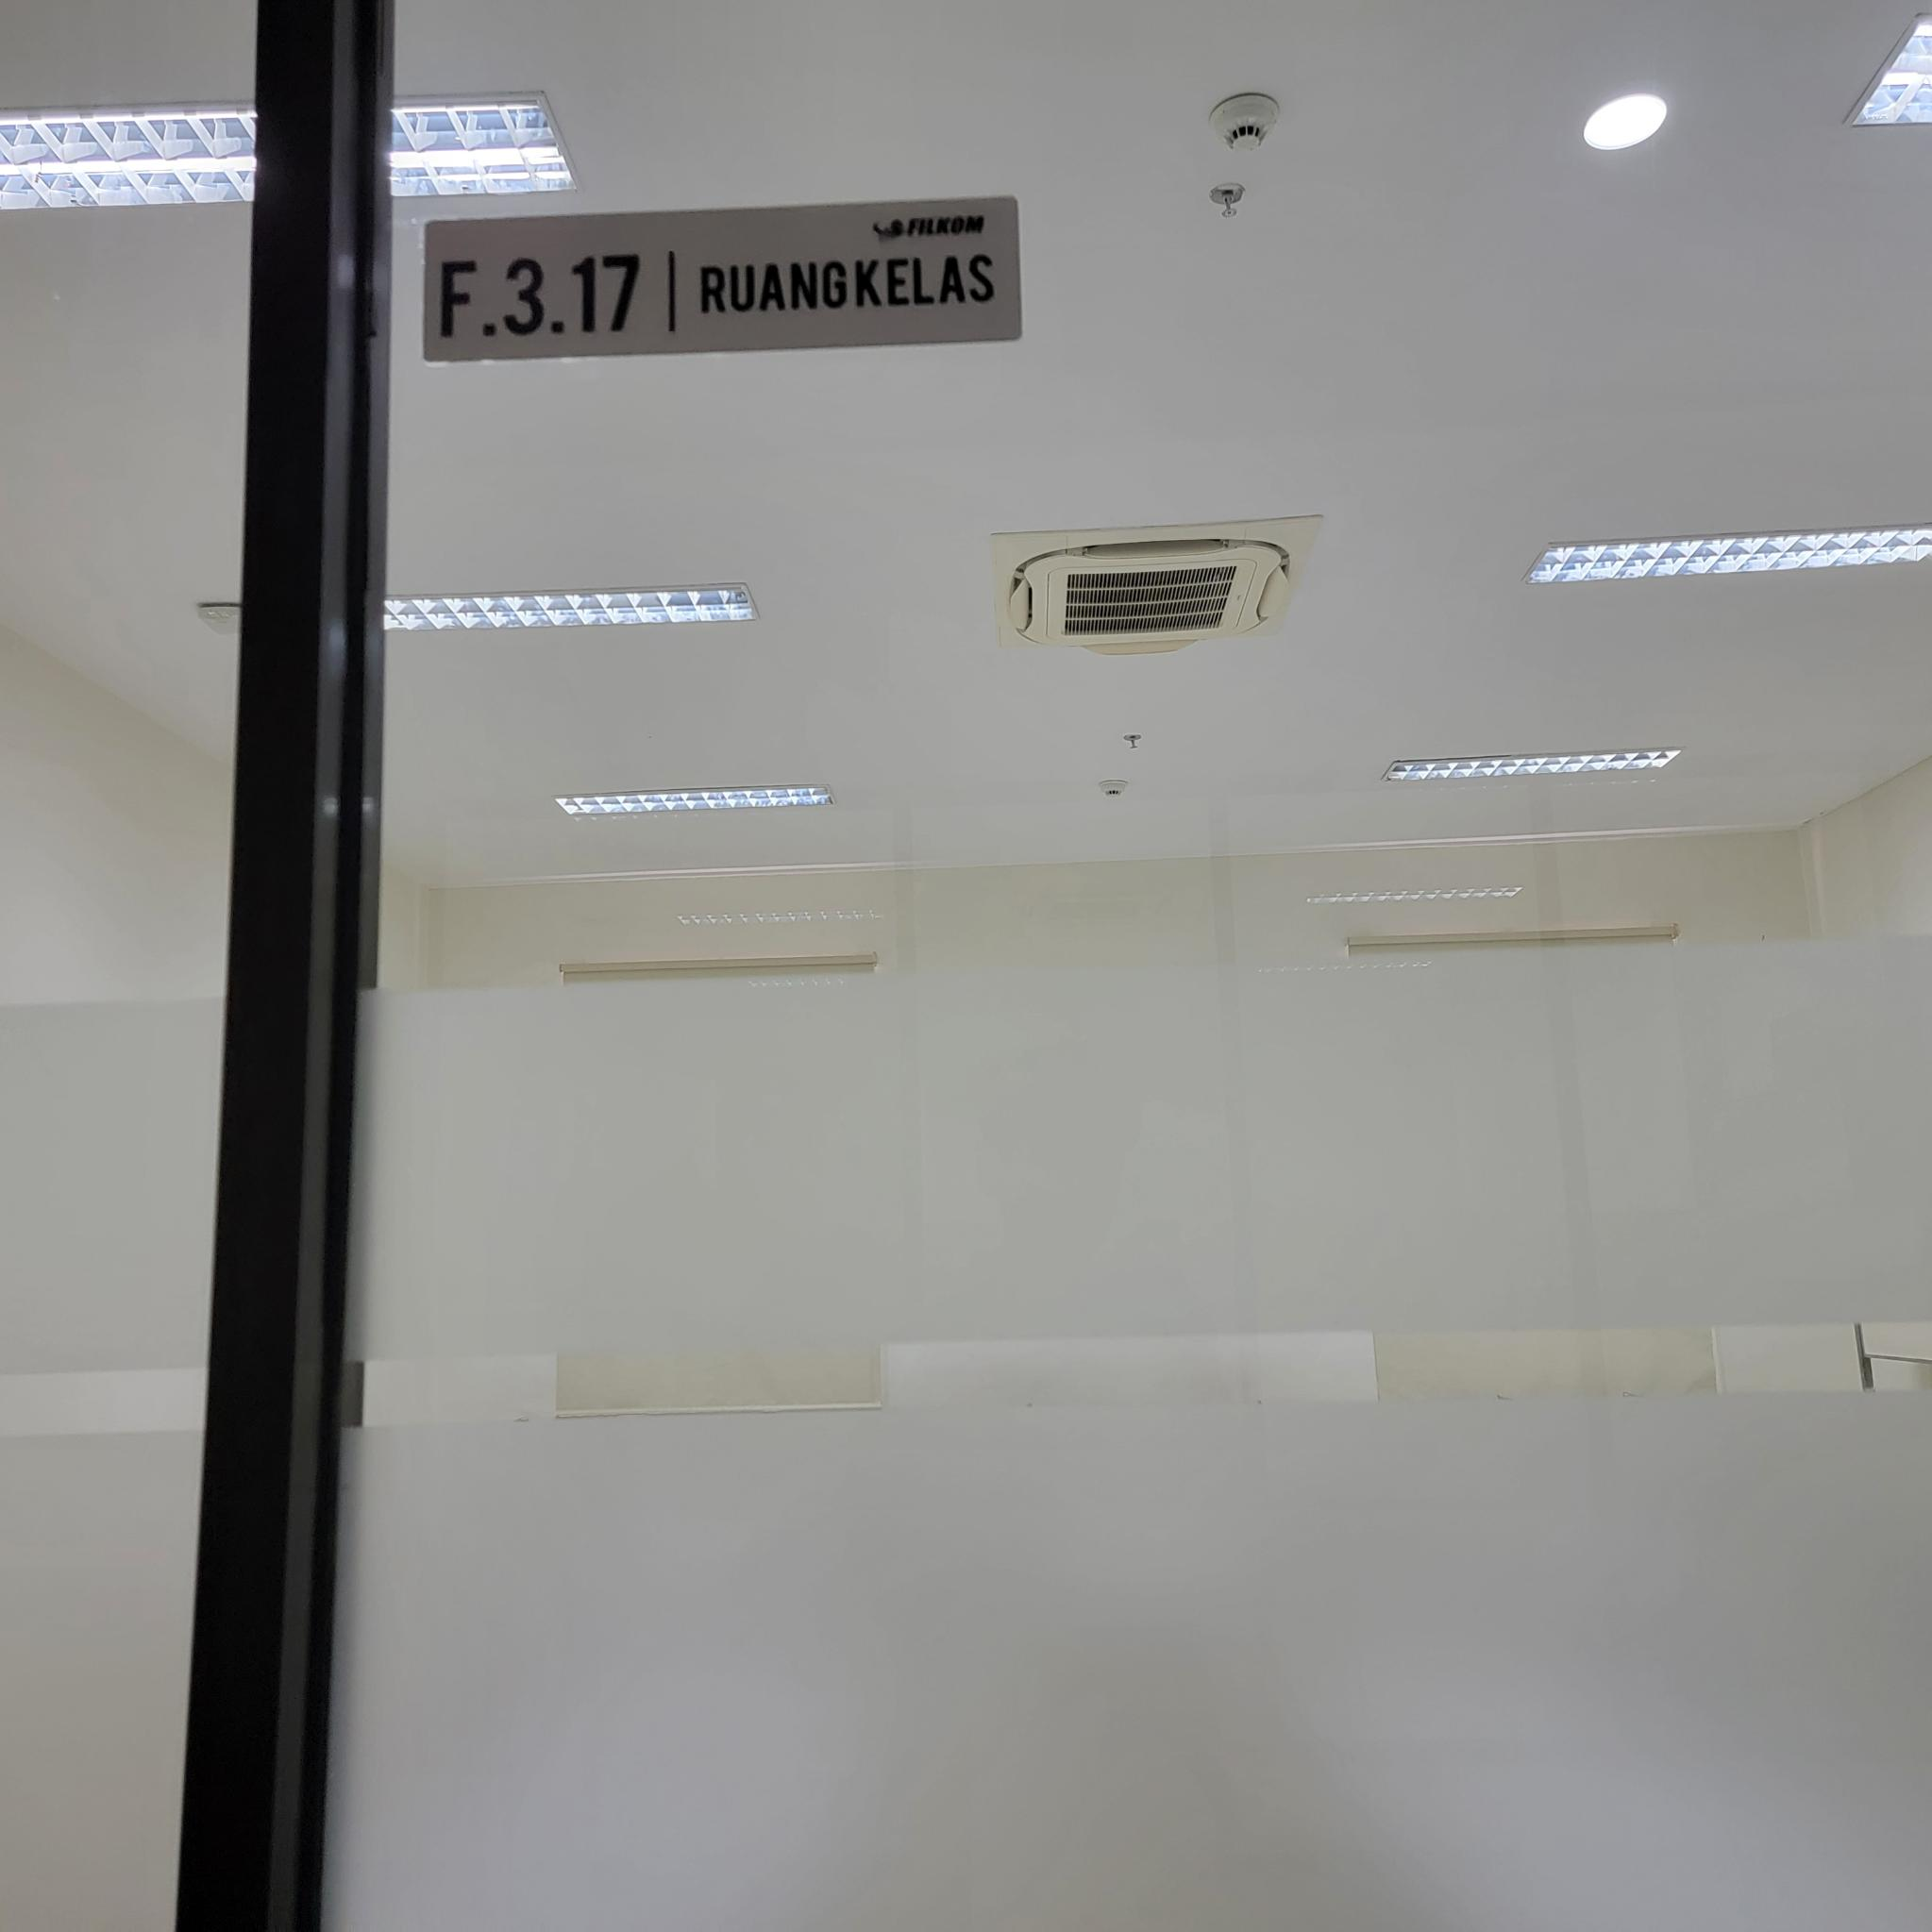plate: (425, 193, 1023, 364)
